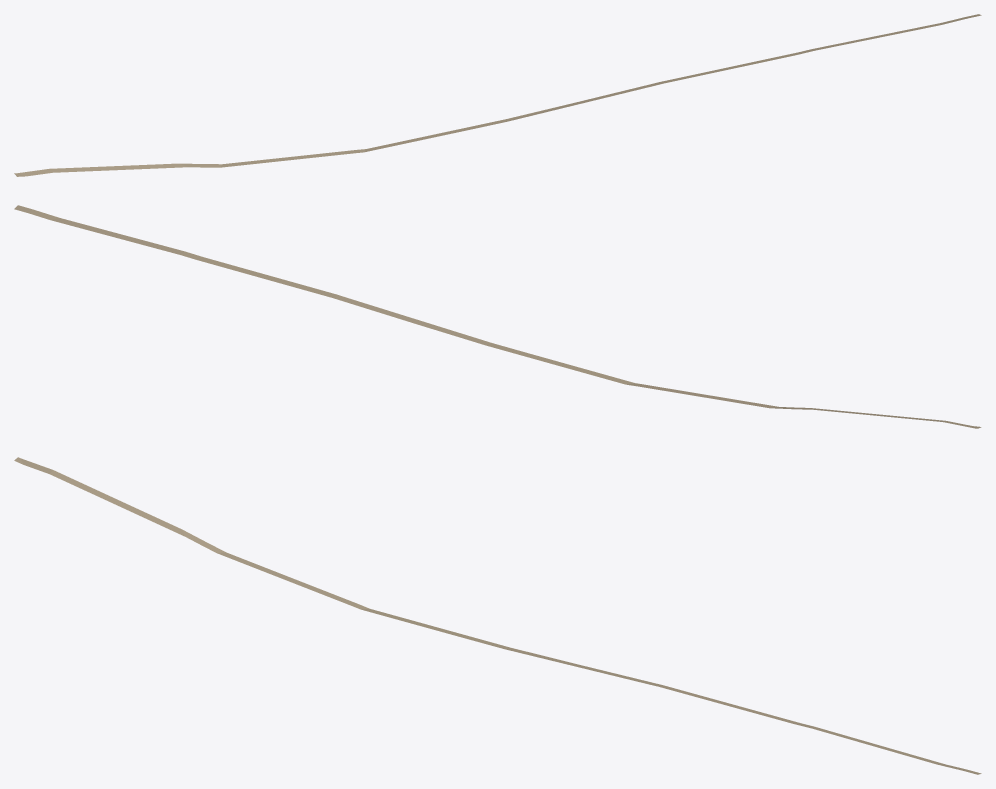
The model's file is farm_-16_-27_track.glb.
3 views of the same model, one above another, from view 1: azimuth 30°, elevation 25°; view 2: azimuth 150°, elevation 25°; view 3: azimuth 330°, elevation 25° (orthographic). The views are drawn at different scales.
Parts seen in each view (by area): view 1: geometry_0; view 2: geometry_0; view 3: geometry_0.
Part boxes in pixels (bbox=[...]): geometry_0: bbox=[14, 14, 981, 176]; geometry_0: bbox=[14, 205, 981, 428]; geometry_0: bbox=[14, 457, 981, 774].
Bounding box in the file's own units: 506 × 26.07 × 32.87.
